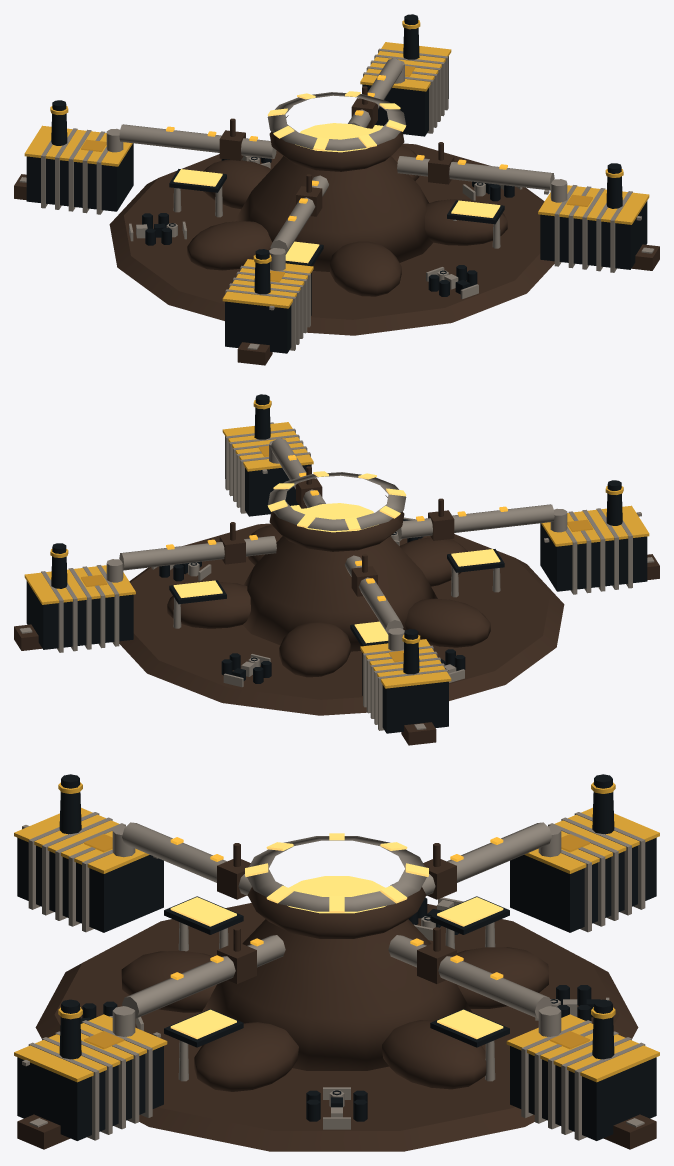
File: vent-tap-bathyarch.glb
3 renders of one model, top to bottom at view 1: azimuth 30°, elevation 25°; view 2: azimuth 150°, elevation 25°; view 3: azimuth 270°, elevation 25°, orthographic. The views are drawn at different scales.
Visible parts, largest first — view 1: apron, exchanger (×4), vent_chimney, hazard_band (×4), draw_pipe (×4), basalt_lobe_1, basalt_lobe_2, stack (×4), clamp_ring, basalt_lobe_0, manifold_ring, basalt_lobe_3 (+4 smaller); view 2: apron, exchanger (×4), vent_chimney, hazard_band (×4), draw_pipe (×4), basalt_lobe_2, basalt_lobe_3, stack (×4), clamp_ring, basalt_lobe_4, manifold_ring, basalt_lobe_1 (+4 smaller); view 3: apron, exchanger (×4), vent_chimney, hazard_band (×4), draw_pipe (×4), basalt_lobe_0, basalt_lobe_4, stack (×4), clamp_ring, platform_flood (×4), valve_block (×4), manifold_ring (+11 smaller).
Boxes of the visible parts, x1=… form: apron: x1=109, y1=143, x2=554, y2=335; exchanger (×4): x1=26, y1=56, x2=647, y2=353; vent_chimney: x1=234, y1=156, x2=433, y2=271; hazard_band (×4): x1=24, y1=42, x2=649, y2=308; draw_pipe (×4): x1=119, y1=58, x2=554, y2=254; basalt_lobe_1: x1=330, y1=241, x2=401, y2=296; basalt_lobe_2: x1=187, y1=221, x2=272, y2=270; stack (×4): x1=51, y1=14, x2=622, y2=294; clamp_ring: x1=269, y1=115, x2=404, y2=171; basalt_lobe_0: x1=425, y1=199, x2=507, y2=245; manifold_ring: x1=267, y1=92, x2=405, y2=150; basalt_lobe_3: x1=203, y1=160, x2=271, y2=209; apron: x1=119, y1=523, x2=564, y2=715; exchanger (×4): x1=26, y1=436, x2=647, y2=733; vent_chimney: x1=243, y1=536, x2=437, y2=651; hazard_band (×4): x1=24, y1=422, x2=649, y2=688; draw_pipe (×4): x1=119, y1=438, x2=554, y2=634; basalt_lobe_2: x1=404, y1=598, x2=490, y2=647; basalt_lobe_3: x1=279, y1=622, x2=350, y2=677; stack (×4): x1=51, y1=394, x2=622, y2=674; clamp_ring: x1=269, y1=495, x2=404, y2=551; basalt_lobe_4: x1=167, y1=582, x2=250, y2=628; manifold_ring: x1=268, y1=472, x2=406, y2=530; basalt_lobe_1: x1=399, y1=537, x2=467, y2=586; apron: x1=35, y1=903, x2=638, y2=1151; exchanger (×4): x1=17, y1=837, x2=656, y2=1140; vent_chimney: x1=202, y1=919, x2=471, y2=1070; hazard_band (×4): x1=14, y1=807, x2=659, y2=1082; draw_pipe (×4): x1=122, y1=822, x2=551, y2=1018; basalt_lobe_0: x1=194, y1=1022, x2=298, y2=1091; basalt_lobe_4: x1=382, y1=1020, x2=486, y2=1089; stack (×4): x1=59, y1=774, x2=614, y2=1059; clamp_ring: x1=247, y1=887, x2=426, y2=938; platform_flood (×4): x1=170, y1=897, x2=503, y2=1039; valve_block (×4): x1=217, y1=859, x2=456, y2=983; manifold_ring: x1=247, y1=836, x2=426, y2=911.
Bounding box in the file's own units: 180 × 50.85 × 180.
